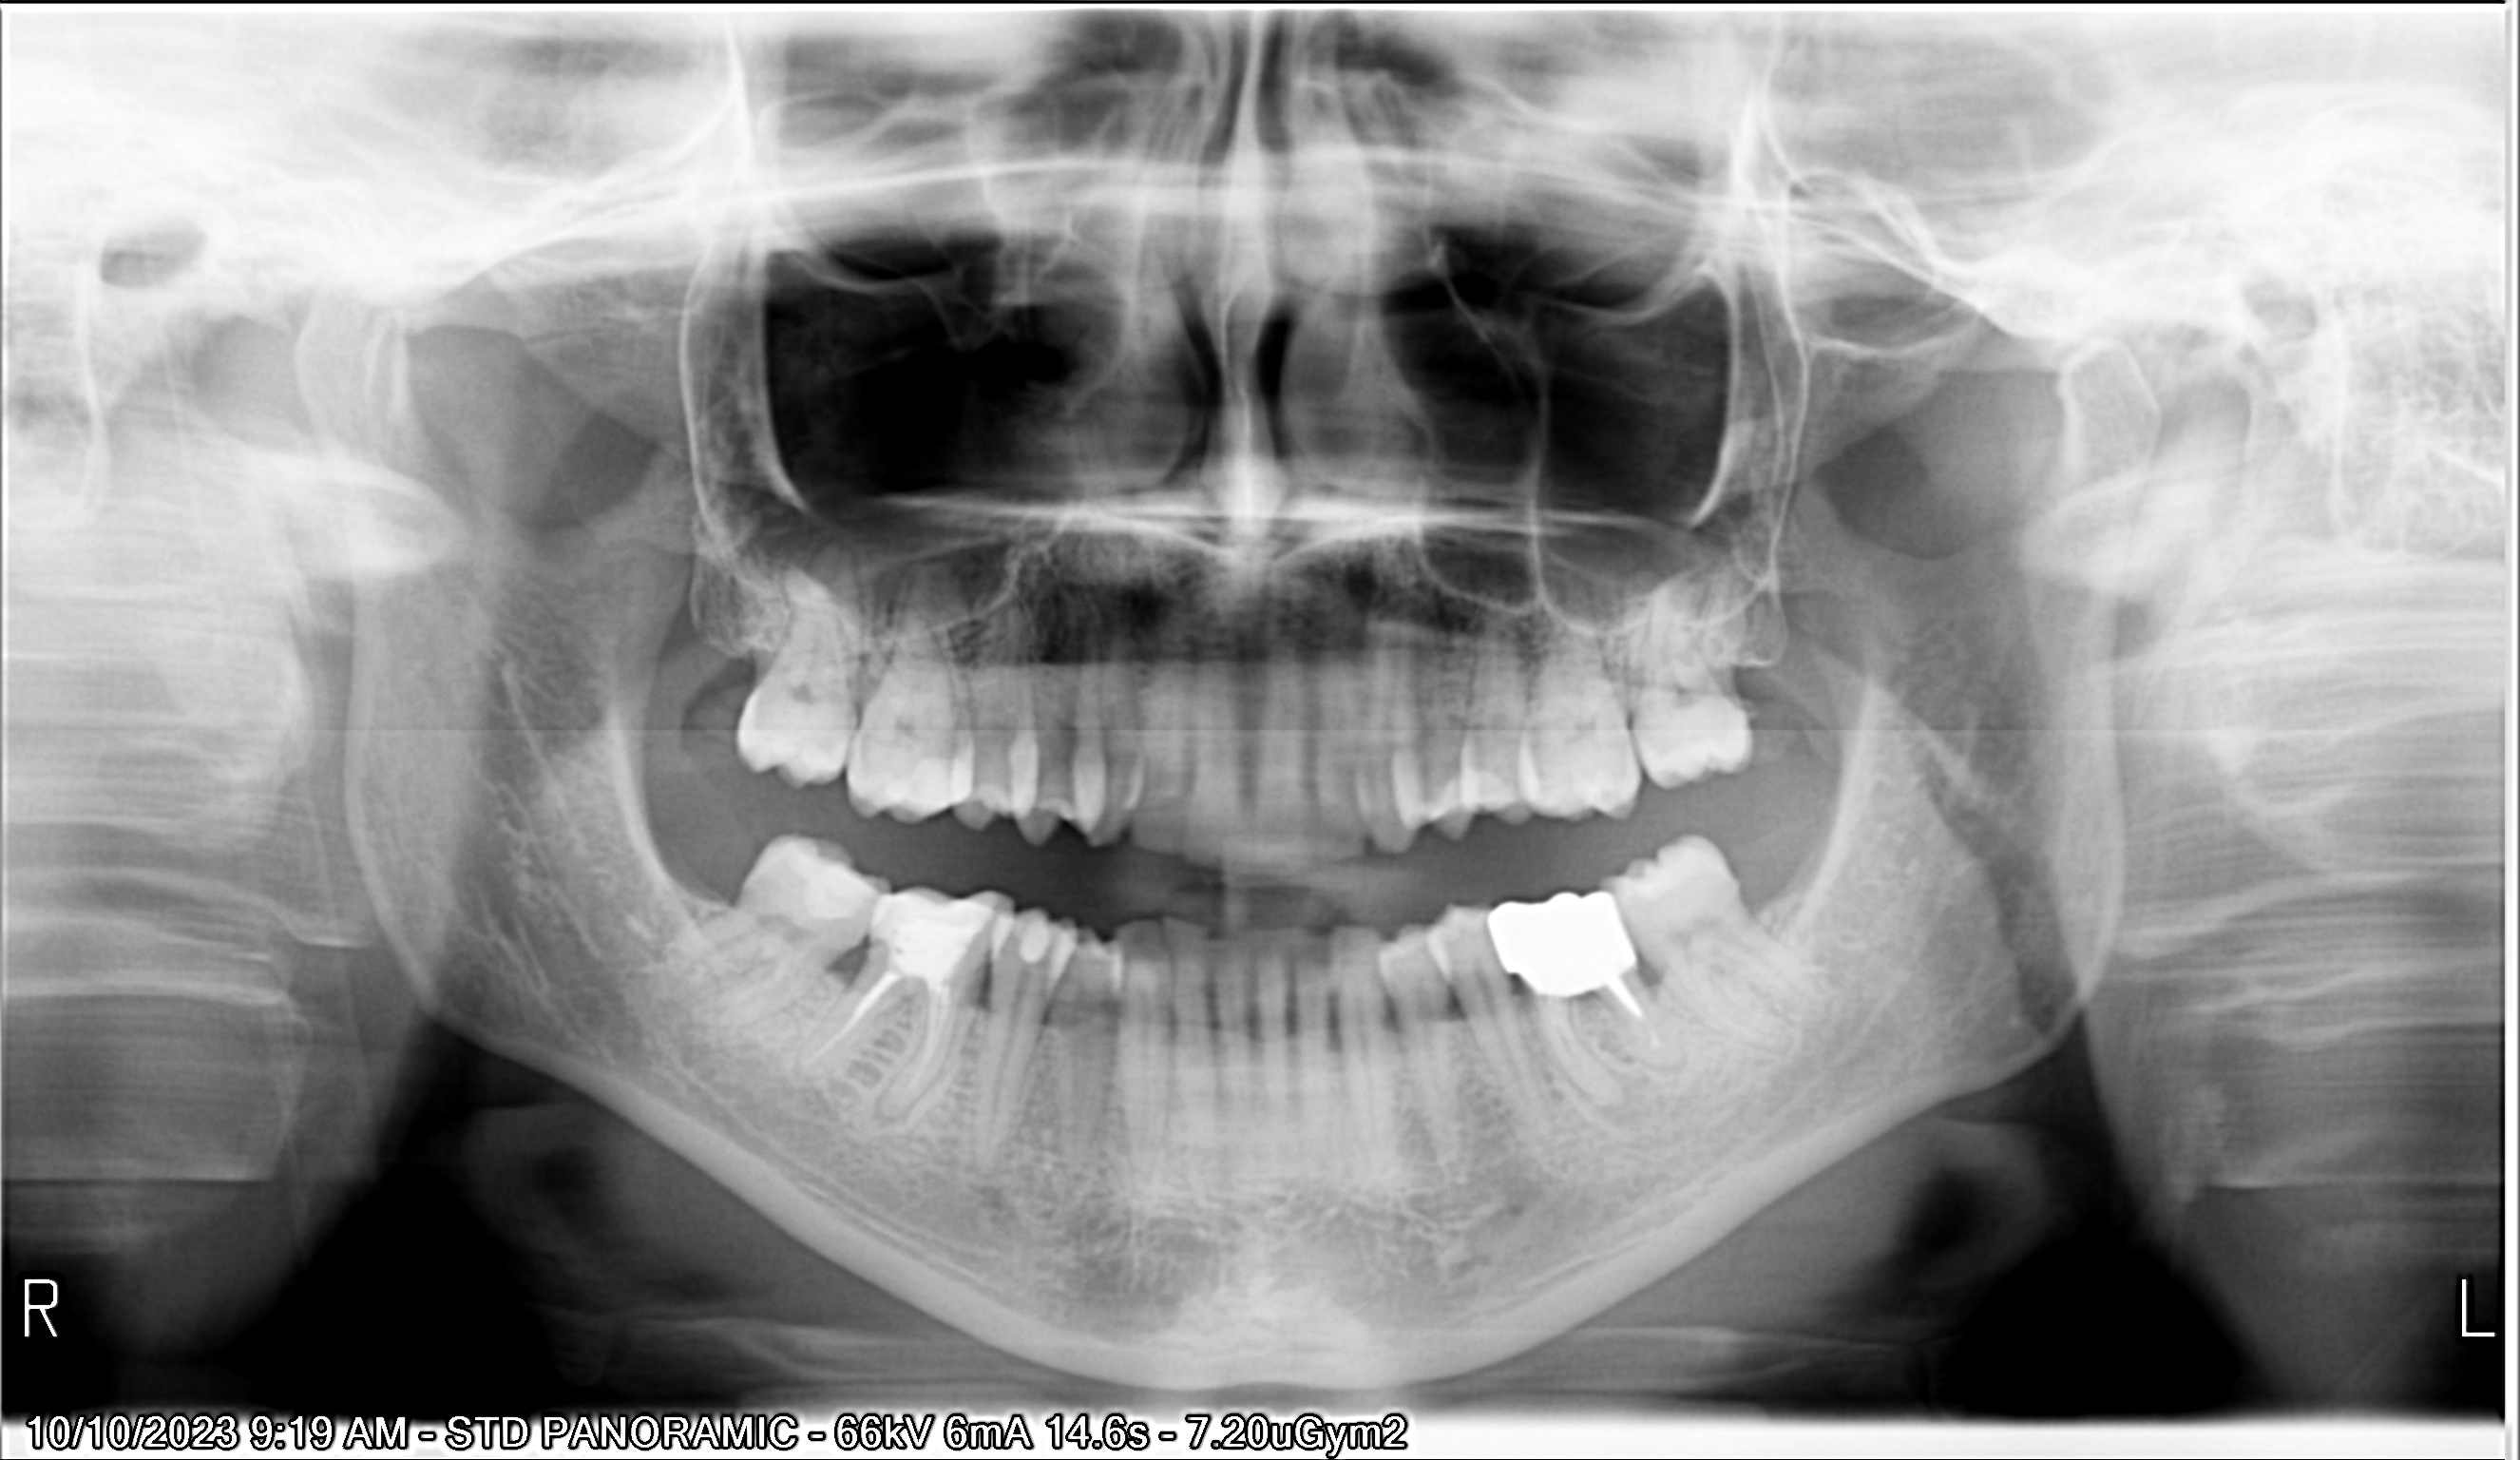API: (846, 1065, 959, 1147), (1580, 1076, 1678, 1133)
END: (801, 980, 962, 1112), (1624, 1017, 1676, 1062)
FUR: (1544, 975, 1627, 1025)
OBT: (865, 873, 1019, 989), (775, 824, 879, 937), (997, 904, 1079, 984)
PRR: (1466, 885, 1648, 992)
